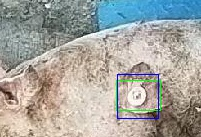text: (116, 80, 160, 110)
